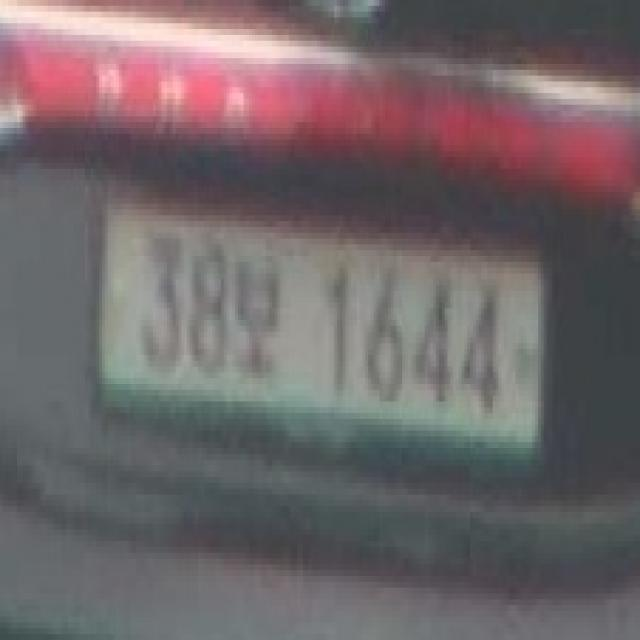1: (323, 262, 348, 396)
3: (139, 227, 184, 372)
4: (411, 268, 453, 407), (462, 291, 501, 413)
6: (365, 274, 405, 402)
8: (187, 238, 226, 372)
bo: (224, 244, 283, 384)
license_plate: (93, 192, 544, 465)
